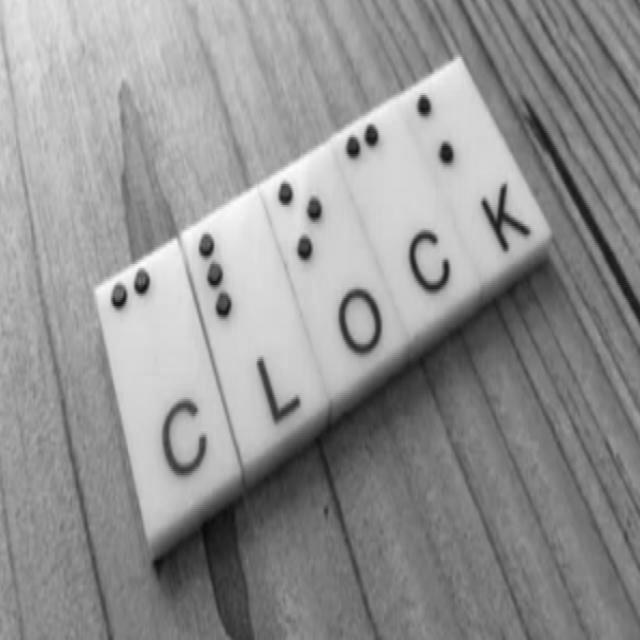C: (96, 253, 189, 422), (337, 111, 421, 239)
K: (411, 69, 493, 195)
L: (184, 202, 275, 364)
O: (264, 155, 351, 299)
